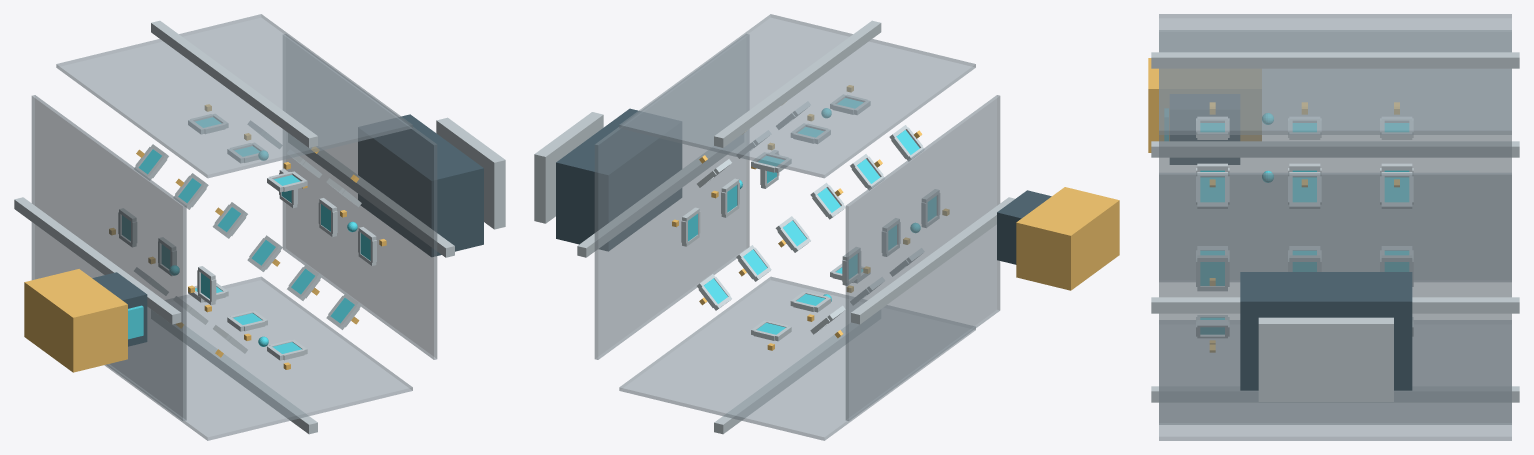
Rendered from SPRAY-CLOSURE-rig.glb.
3 views of the same model, side by side, from view 1: azimuth 30°, elevation 25°; view 2: azimuth 150°, elevation 25°; view 3: azimuth 270°, elevation 25° (orthographic). The views are drawn at different scales.
Parts seen in each view (by area): view 1: wall, frame, dark, source, witness; view 2: wall, frame, dark, source, witness; view 3: wall, frame, dark, witness, source.
Boxes of the visible parts, x1,y1,x2,y2 form: wall: (31,14,437,440); frame: (14,20,505,434); dark: (92,114,483,346); source: (24,104,386,372); witness: (122,117,370,353); wall: (594,14,1000,440); frame: (534,20,1015,434); dark: (556,108,1051,264); source: (672,85,1119,350); witness: (688,98,936,334); wall: (1159,14,1511,440); frame: (1151,52,1519,402); dark: (1170,135,1412,390); witness: (1164,113,1409,334); source: (1148,58,1399,352).
Size of what is drawn, in the model's own units: 0.421 by 0.248 by 0.242.
